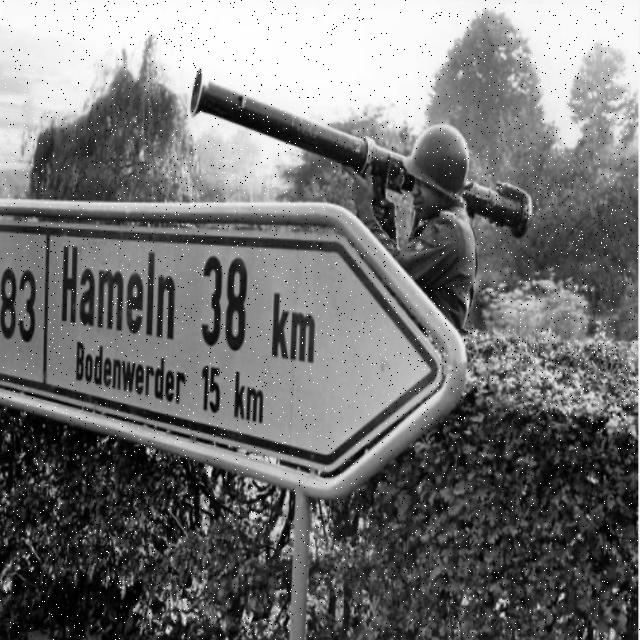bazooka: (185, 56, 544, 246)
